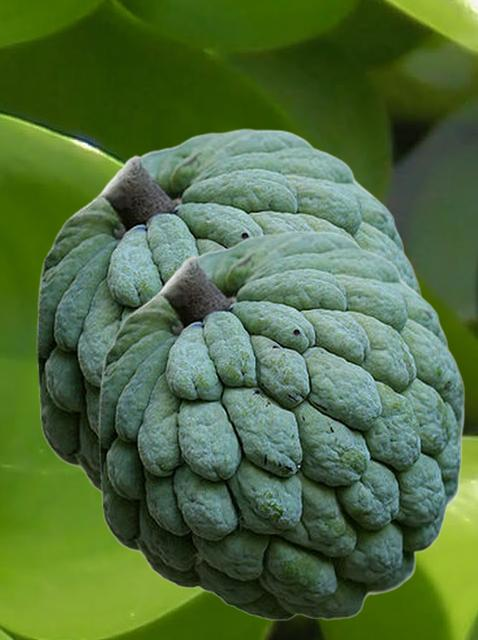atis: (98, 230, 464, 620), (36, 128, 421, 495)
